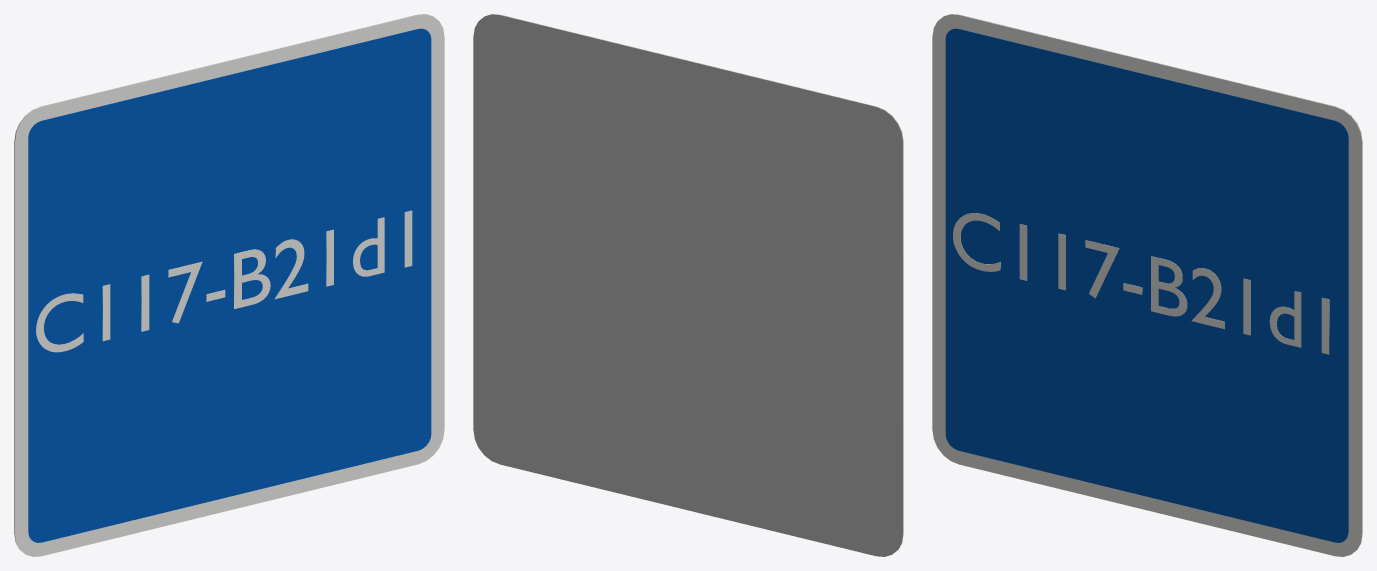
3 views of the same model, side by side, from view 1: azimuth 30°, elevation 25°; view 2: azimuth 150°, elevation 25°; view 3: azimuth 330°, elevation 25° (orthographic).
Parts seen in each view (by area): view 1: C117-B21d1_fond01, C117-B21d1_cadre00, C117-B21d1_txt02, C117-B21d1_dos; view 2: C117-B21d1_dos, C117-B21d1_cadre00; view 3: C117-B21d1_fond01, C117-B21d1_cadre00, C117-B21d1_txt02, C117-B21d1_dos.
Boxes of the visible parts, x1,y1,x2,y2 form: C117-B21d1_fond01: (28, 28, 431, 542); C117-B21d1_cadre00: (15, 14, 444, 556); C117-B21d1_txt02: (36, 210, 412, 352); C117-B21d1_dos: (14, 14, 432, 549); C117-B21d1_dos: (473, 14, 903, 556); C117-B21d1_cadre00: (493, 14, 903, 547); C117-B21d1_fond01: (945, 28, 1348, 542); C117-B21d1_cadre00: (932, 14, 1361, 556); C117-B21d1_txt02: (953, 213, 1329, 354); C117-B21d1_dos: (944, 14, 1362, 549).
Size of the model in its own units: 0.65 by 0.65 by 0.0025.
